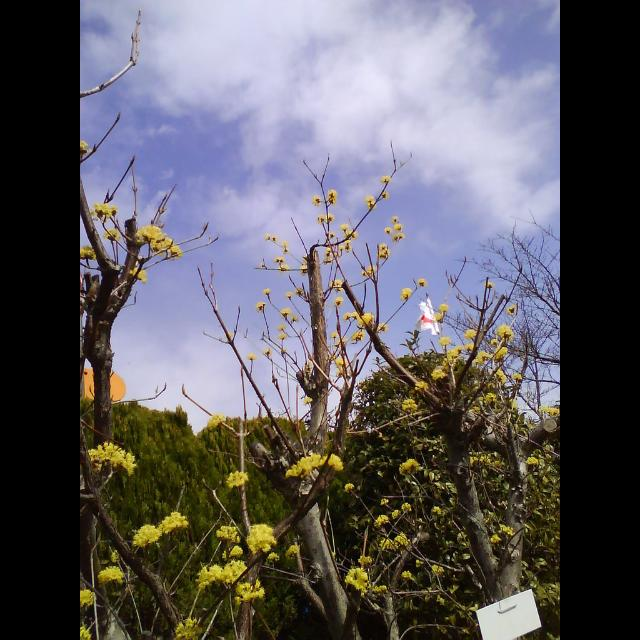Flower: (348, 497, 447, 598), (196, 525, 248, 585), (474, 370, 528, 414), (86, 442, 138, 476), (136, 226, 182, 258), (287, 456, 343, 480), (526, 448, 556, 486), (431, 347, 462, 379), (490, 325, 516, 359), (236, 578, 264, 606), (248, 522, 274, 550), (344, 312, 386, 328), (176, 618, 204, 640), (470, 454, 504, 472), (160, 512, 190, 532), (129, 526, 161, 544), (493, 524, 515, 548), (80, 588, 98, 610), (98, 564, 120, 582), (206, 414, 228, 432), (401, 458, 421, 476), (90, 202, 110, 218), (399, 400, 423, 412), (129, 268, 149, 282), (376, 243, 392, 260), (537, 407, 559, 418), (102, 230, 118, 244), (336, 358, 346, 380), (80, 247, 96, 260), (80, 625, 94, 639), (80, 140, 94, 152), (316, 214, 334, 222), (328, 188, 337, 204), (399, 288, 411, 300), (352, 332, 366, 342), (438, 302, 448, 314), (462, 330, 474, 340), (279, 308, 293, 316), (338, 240, 352, 248), (392, 233, 406, 241), (439, 336, 453, 344), (110, 206, 120, 216), (278, 324, 288, 334), (312, 196, 322, 206), (262, 233, 278, 239), (338, 221, 350, 229), (416, 277, 428, 285), (504, 306, 516, 314), (255, 301, 262, 313), (280, 264, 288, 274), (331, 330, 339, 340), (247, 354, 255, 362), (302, 397, 310, 405), (383, 227, 391, 235), (388, 216, 398, 222), (464, 345, 474, 351), (486, 282, 496, 288), (350, 233, 358, 240), (382, 176, 391, 182), (264, 287, 270, 295), (280, 334, 288, 340), (292, 316, 300, 322), (394, 224, 402, 230), (282, 240, 288, 247), (276, 258, 284, 262)
